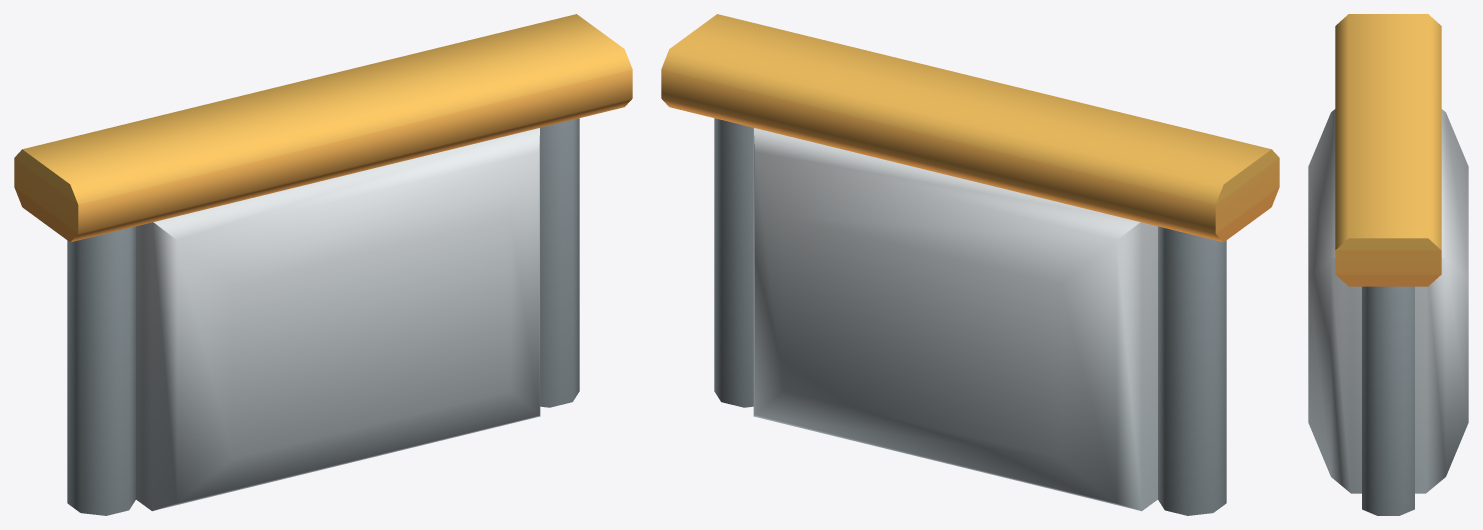
The model's file is kaykit_railing_straight_padded_yellow.glb.
The picture shows the model from 3 angles, left to right: view 1: azimuth 30°, elevation 25°; view 2: azimuth 150°, elevation 25°; view 3: azimuth 270°, elevation 25°; orthographic projection. The views are drawn at different scales.
Visible parts, largest first — view 1: railing_straight_padded_yellow_visual; view 2: railing_straight_padded_yellow_visual; view 3: railing_straight_padded_yellow_visual.
Part boxes in pixels (box(x1,y1,x2,y2)): railing_straight_padded_yellow_visual: box(14, 14, 632, 515); railing_straight_padded_yellow_visual: box(661, 14, 1279, 515); railing_straight_padded_yellow_visual: box(1308, 14, 1468, 515).
Size of what is drawn, in the model's own units: 2 by 1.2 by 0.6028.
1 material, 1 textured.
